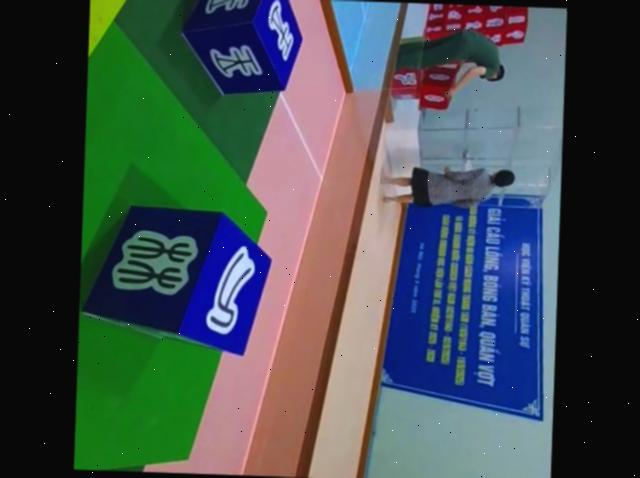R2 Fake Blue: (80, 203, 275, 359)
R2 Real Blue: (172, 0, 300, 99)
